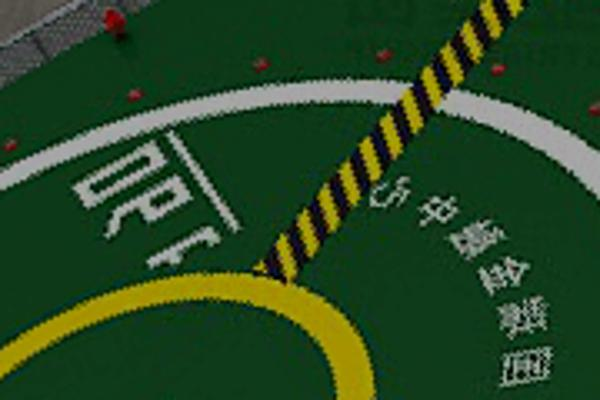Apron: (1, 257, 400, 400)
